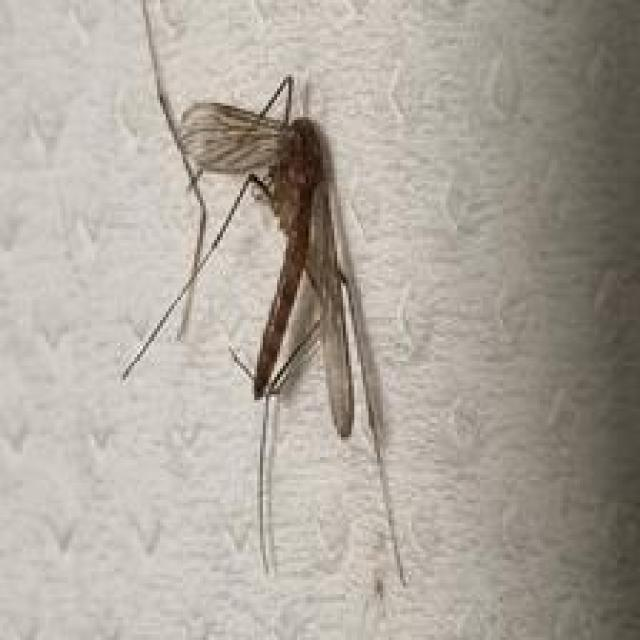Culex: (118, 0, 413, 589)
